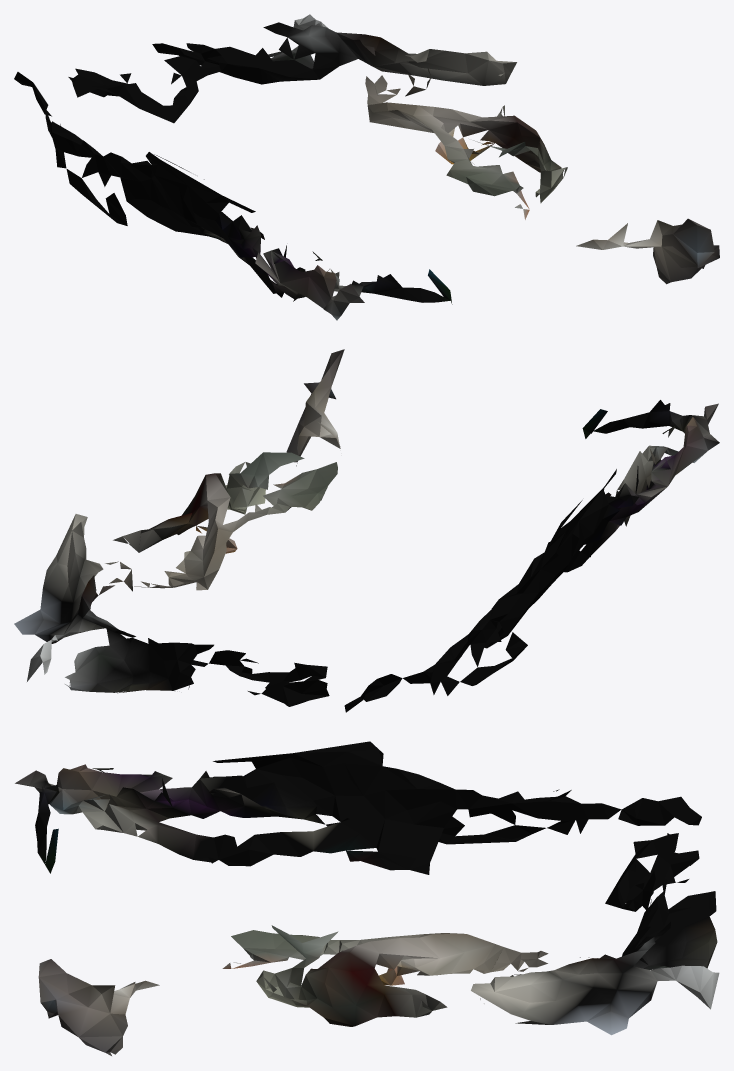
Rendered from refrigerator_body__refrigerator_main_door.scan.glb.
3 renders of one model, top to bottom at view 1: azimuth 30°, elevation 25°; view 2: azimuth 150°, elevation 25°; view 3: azimuth 270°, elevation 25°, orthographic. The views are drawn at different scales.
Parts seen in each view (by area): view 1: geometry_0; view 2: geometry_0; view 3: geometry_0.
Boxes of the visible parts, left/top/right/bottom form: geometry_0: left=14, top=14, right=719, bottom=320; geometry_0: left=14, top=349, right=719, bottom=712; geometry_0: left=15, top=741, right=719, bottom=1055.
Bounding box in the file's own units: 0.854 × 0.2545 × 1.26.
